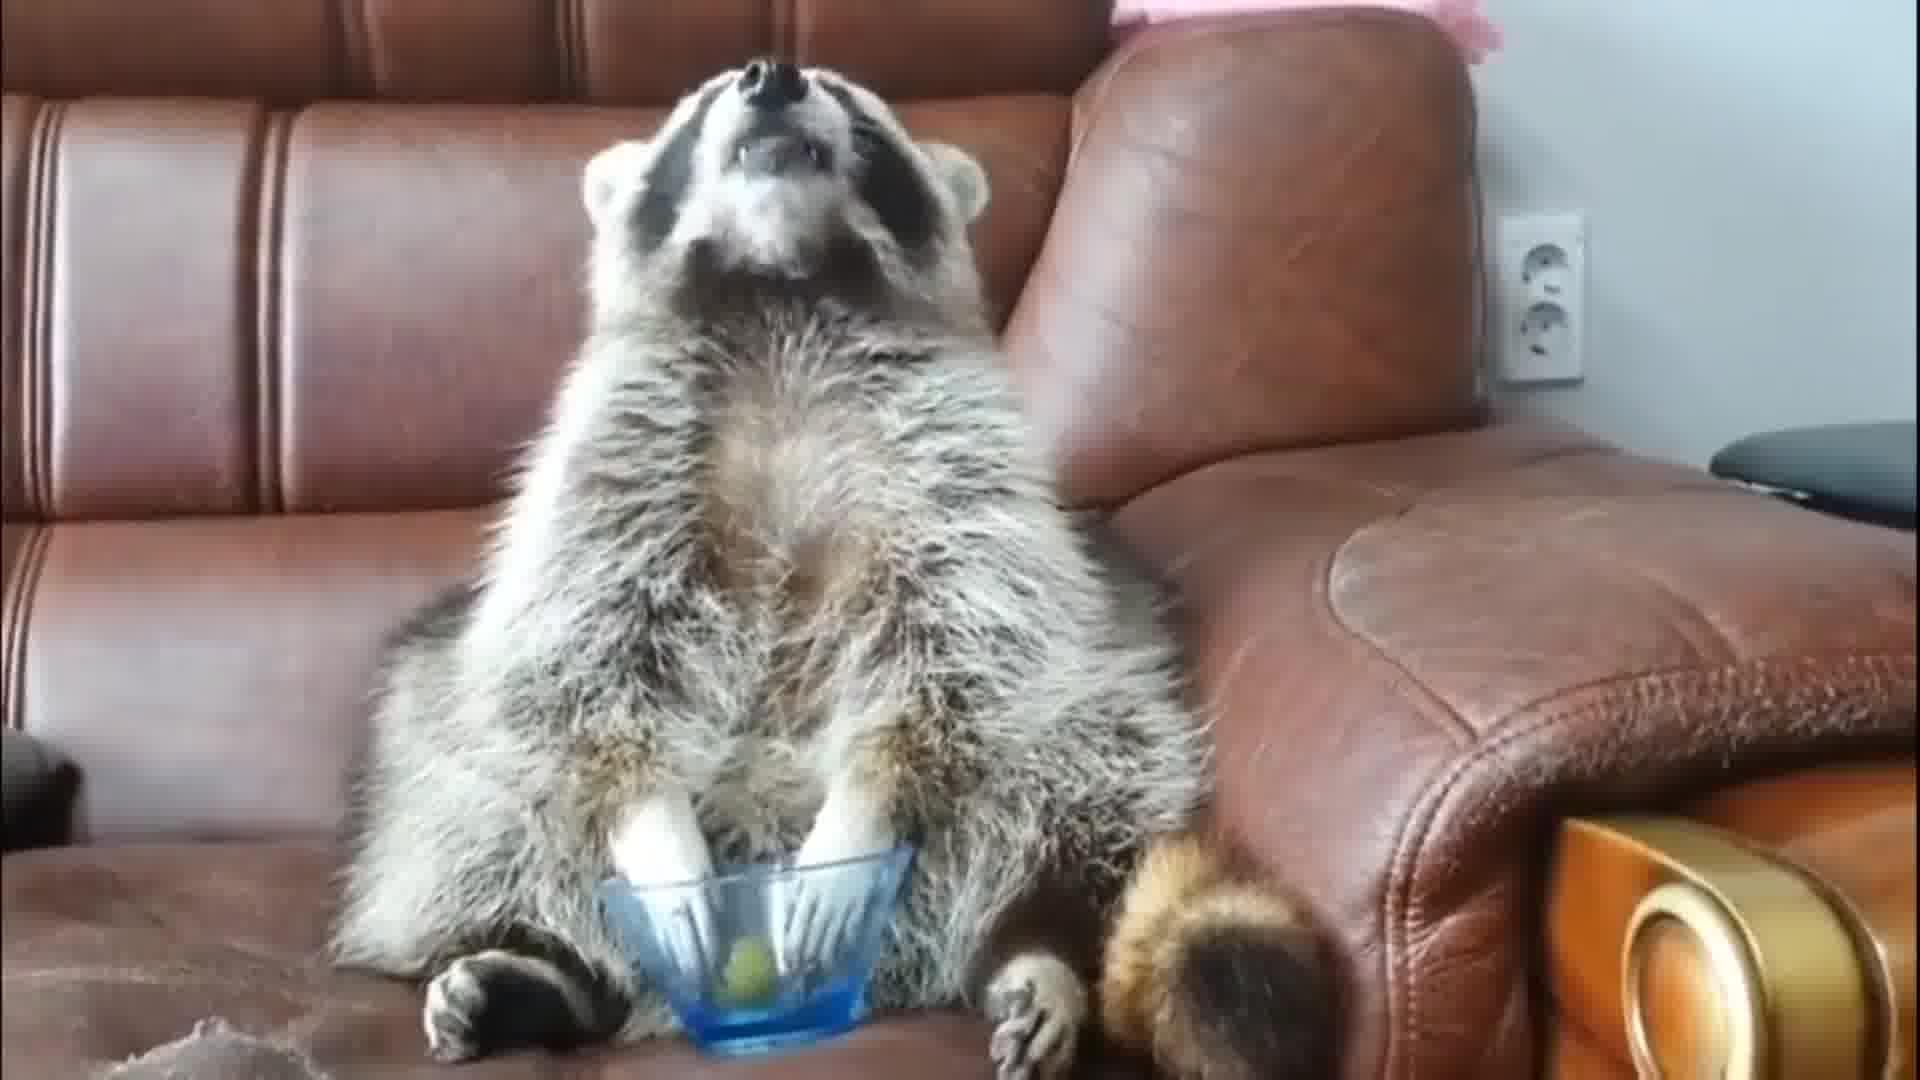raccoon: (321, 41, 1349, 1080)
